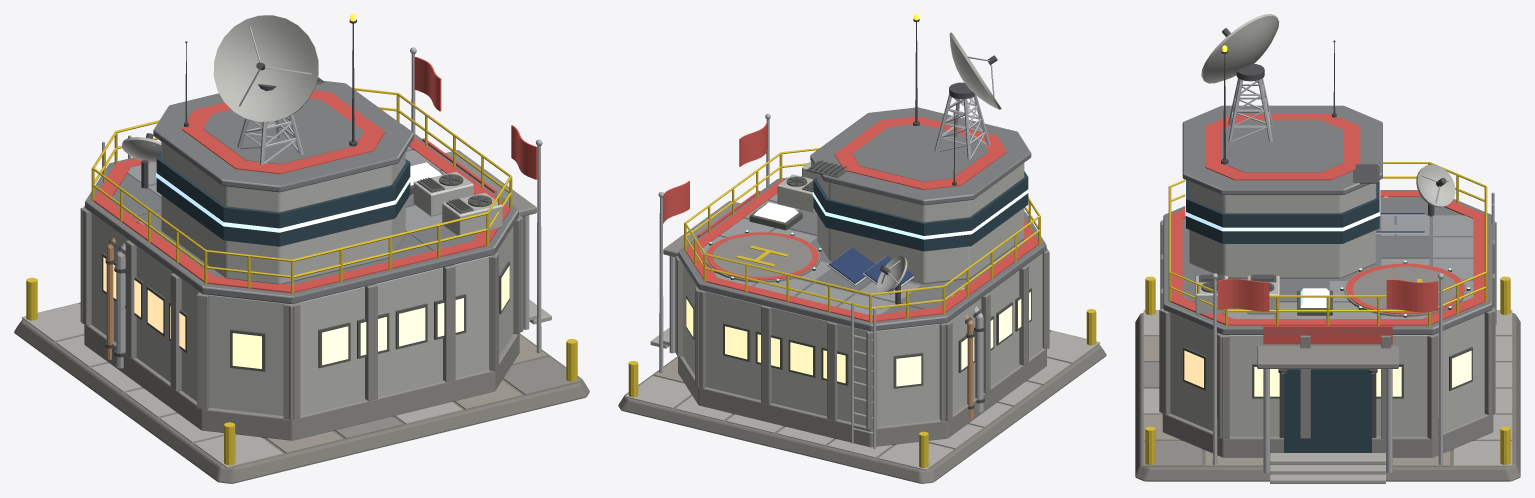
File: command_center_red.glb
3 renders of one model, left to right at view 1: azimuth 30°, elevation 25°; view 2: azimuth 150°, elevation 25°; view 3: azimuth 270°, elevation 25°, orthographic. The views are drawn at different scales.
Parts seen in each view (by area): view 1: Body; view 2: Body; view 3: Body.
Part boxes in pixels (box(x1,y1,x2,y2)): Body: box(14, 14, 589, 483); Body: box(618, 14, 1106, 483); Body: box(1135, 14, 1520, 483).
Bounding box in the file's own units: 6.49 × 6.04 × 5.98.
1 material, 1 textured.
